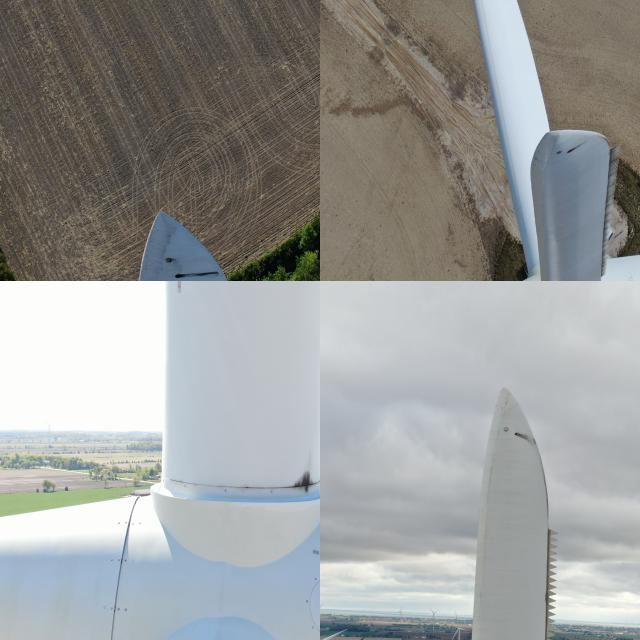damage: (284, 454, 319, 502), (174, 269, 225, 280), (564, 138, 591, 158), (514, 429, 537, 445)
